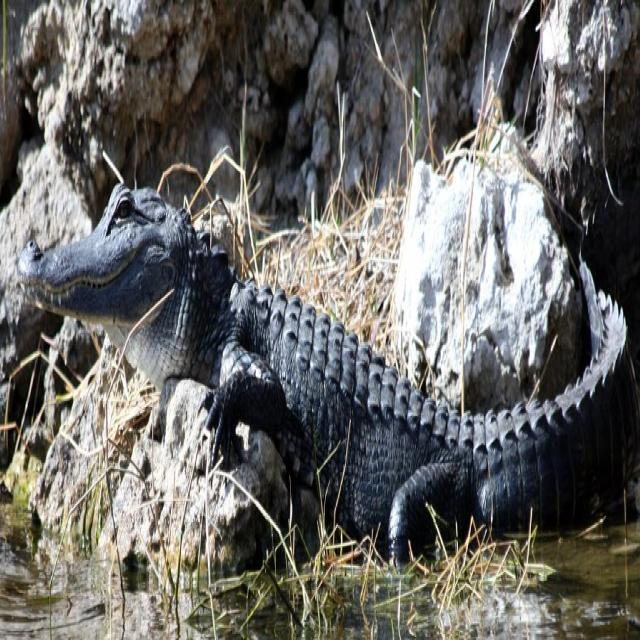crocodile: (0, 168, 639, 603)
